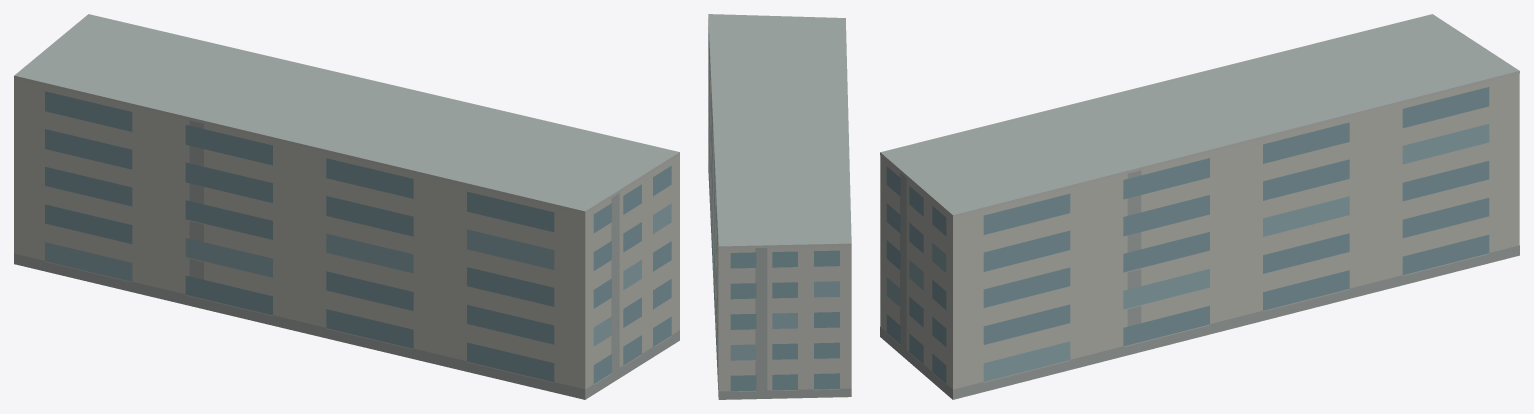
Rendered from residential-00a9bfa8-74aa-43e8-a2ca-d9a94b0724fa.glb.
3 renders of one model, left to right at view 1: azimuth 30°, elevation 25°; view 2: azimuth 150°, elevation 25°; view 3: azimuth 270°, elevation 25°, orthographic. The views are drawn at different scales.
Parts seen in each view (by area): view 1: residential-00a9bfa8-74aa-43e8-a2ca-d9a94b0724fa.tmp; view 2: residential-00a9bfa8-74aa-43e8-a2ca-d9a94b0724fa.tmp; view 3: residential-00a9bfa8-74aa-43e8-a2ca-d9a94b0724fa.tmp.
Boxes of the visible parts, left/top/right/bottom form: residential-00a9bfa8-74aa-43e8-a2ca-d9a94b0724fa.tmp: left=14, top=14, right=679, bottom=399; residential-00a9bfa8-74aa-43e8-a2ca-d9a94b0724fa.tmp: left=708, top=14, right=851, bottom=399; residential-00a9bfa8-74aa-43e8-a2ca-d9a94b0724fa.tmp: left=880, top=14, right=1519, bottom=399.
Size of the model in its own units: 35.64 by 15.25 by 47.87.
